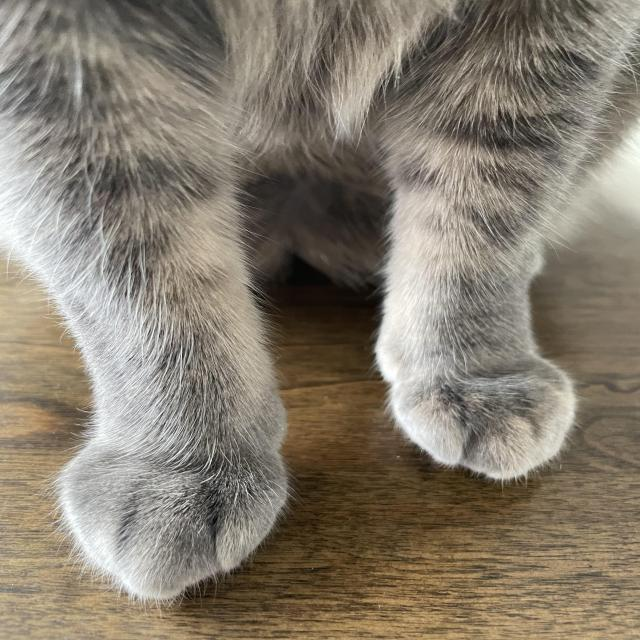Healthy skin: (20, 36, 176, 232), (250, 6, 556, 96), (111, 263, 238, 417), (223, 126, 369, 226), (439, 120, 519, 272), (420, 300, 512, 430), (129, 474, 240, 546)
